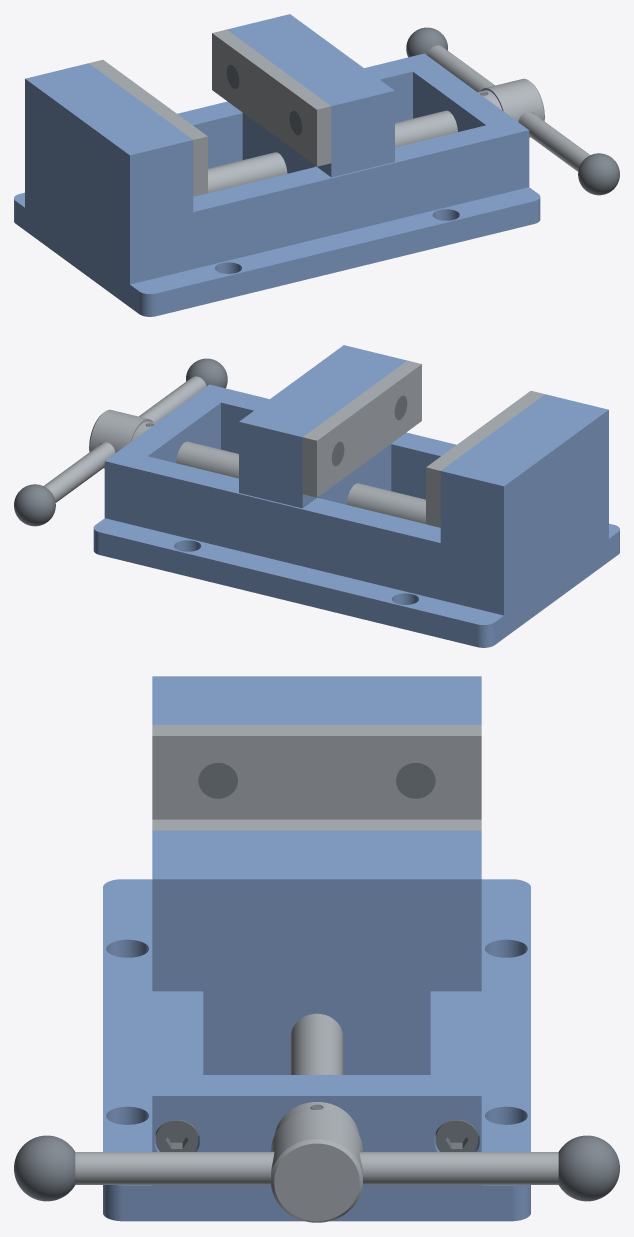
The model's file is machine_vice.glb.
3 views of the same model, one above another, from view 1: azimuth 30°, elevation 25°; view 2: azimuth 150°, elevation 25°; view 3: azimuth 270°, elevation 25° (orthographic). The views are drawn at different scales.
Parts seen in each view (by area): view 1: body, moving jaw, moving jaw plate, end block, lead screw, tommy bar, fixed jaw plate, handle ball 2, handle ball 1; view 2: body, moving jaw, moving jaw plate, end block, lead screw, tommy bar, fixed jaw plate, handle ball 1, handle ball 2; view 3: moving jaw, body, fixed jaw plate, end block, tommy bar, lead screw, moving jaw plate, handle ball 1, handle ball 2, cap screw M8 x 30 1, cap screw M8 x 30 2, jaw plate screw 1 (+1 smaller).
Part boxes in pixels (x1=…): body: x1=14, y1=60, x2=540, y2=316; moving jaw: x1=227, y1=14, x2=394, y2=177; moving jaw plate: x1=212, y1=29, x2=331, y2=166; end block: x1=397, y1=53, x2=529, y2=193; lead screw: x1=208, y1=78, x2=544, y2=192; tommy bar: x1=427, y1=45, x2=590, y2=171; fixed jaw plate: x1=89, y1=60, x2=207, y2=196; handle ball 2: x1=578, y1=153, x2=619, y2=195; handle ball 1: x1=406, y1=27, x2=447, y2=57; body: x1=93, y1=391, x2=619, y2=647; moving jaw: x1=239, y1=345, x2=406, y2=508; moving jaw plate: x1=302, y1=360, x2=421, y2=497; end block: x1=104, y1=384, x2=236, y2=524; lead screw: x1=89, y1=409, x2=425, y2=523; tommy bar: x1=43, y1=376, x2=206, y2=502; fixed jaw plate: x1=426, y1=391, x2=544, y2=527; handle ball 1: x1=14, y1=484, x2=55, y2=526; handle ball 2: x1=186, y1=358, x2=227, y2=388; moving jaw: x1=152, y1=830, x2=481, y2=1074; body: x1=103, y1=676, x2=530, y2=1221; fixed jaw plate: x1=152, y1=725, x2=481, y2=819; end block: x1=152, y1=1075, x2=481, y2=1185; tommy bar: x1=75, y1=1152, x2=558, y2=1184; lead screw: x1=271, y1=1013, x2=362, y2=1222; moving jaw plate: x1=152, y1=819, x2=481, y2=830; handle ball 1: x1=558, y1=1135, x2=619, y2=1201; handle ball 2: x1=14, y1=1135, x2=75, y2=1201; cap screw M8 x 30 1: x1=435, y1=1119, x2=478, y2=1151; cap screw M8 x 30 2: x1=155, y1=1119, x2=198, y2=1151; jaw plate screw 1: x1=396, y1=763, x2=435, y2=798.
Bounding box in the file's own units: 250 × 80 × 184.
